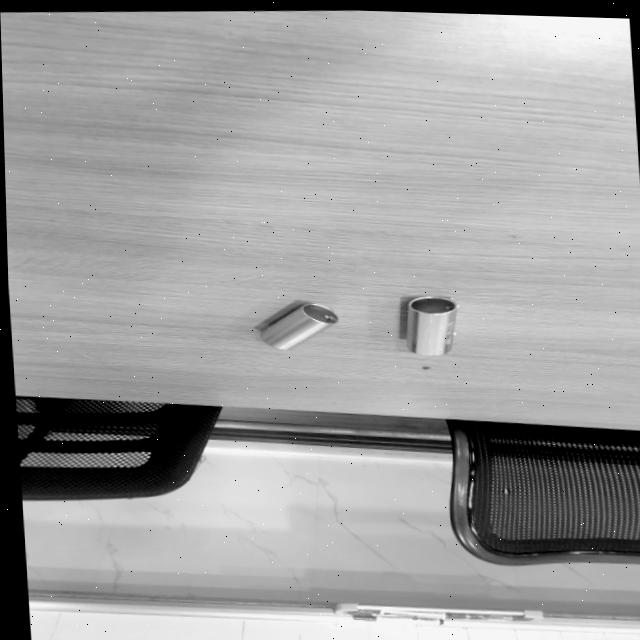Co_Lon: (402, 293, 457, 356)
Co_Nho: (256, 291, 339, 358)
